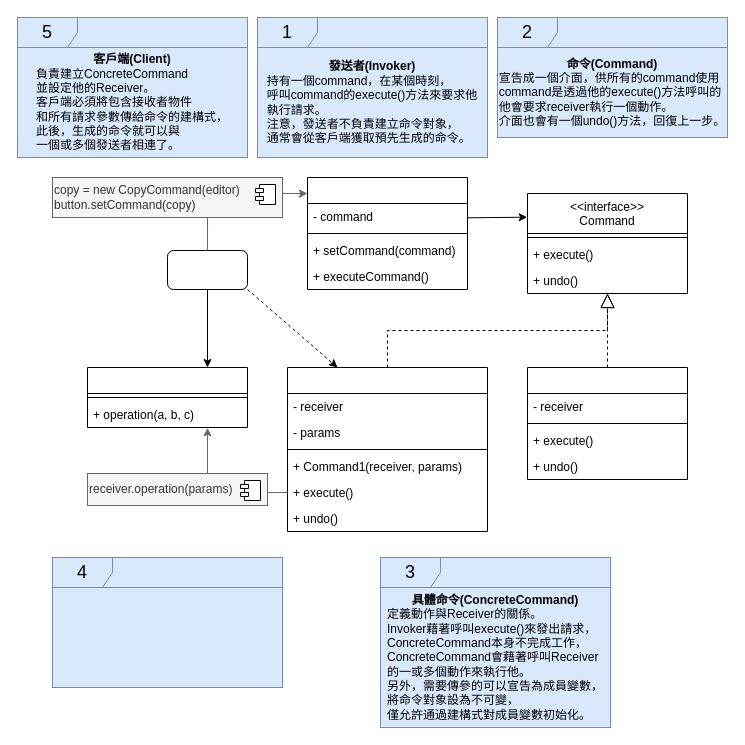
Image size: 745x745. Some labels were removed from this diagram. The box of each missing label's shape, as (x1, y1, x2, y2) in pixels:
Client: (166, 250, 248, 290)
ConcreteCommand1: (286, 366, 488, 532)
ConcreteCommand2: (526, 366, 688, 480)
Invoker: (306, 176, 468, 290)
Receiver: (86, 366, 248, 428)
接收者(Receiver) 知道如何處理請求，任何類別都可以當作 Receiver。 絕大部分命令只處理如何將請求傳遞給 接收者的細節， 接收者會完成實際的工作: (52, 586, 282, 688)
